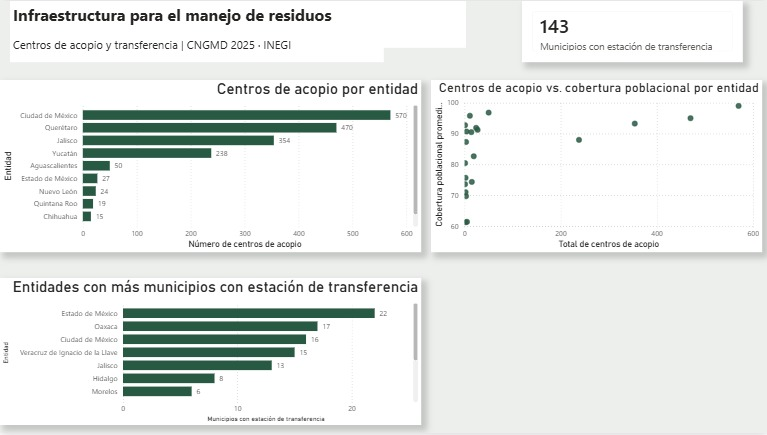

The page's visual inventory and layout, read from the dashboard file:
{"tool":"powerbi","page":{"name":"03 - Infraestructura","canvas":[1280,720],"ordinal":2},"visuals":[{"type":"textbox","box":[16.7,0,760,78.3],"z":0},{"type":"textbox","box":[16.7,55,623.3,46.7],"z":1000},{"type":"clusteredBarChart","title":"Centros de acopio por entidad","fields":{"Category":["Dim_Geografia.Entidad"],"Y":["servicio_cngmd2025.Total Centros de Acopio"]},"box":[0,131.7,701.7,286.7],"z":2000},{"type":"cardVisual","fields":{"Data":["Dim_CentroAcopio.Municipios con Estacion Transferencia"]},"box":[870,0,368.3,101.7],"z":3000},{"type":"clusteredBarChart","title":"Entidades con más municipios con estación de transferencia","fields":{"Category":["Dim_Geografia.Entidad"],"Y":["Dim_CentroAcopio.Municipios con Estacion Transferencia"]},"box":[0,461.7,701.7,245],"z":4000},{"type":"scatterChart","title":"Centros de acopio vs. cobertura poblacional por entidad","fields":{"X":["servicio_cngmd2025.Total Centros de Acopio"],"Y":["servicio_cngmd2025.Cobertura Promedio Poblacion"],"Category":["Dim_Geografia.Entidad"]},"box":[718.3,131.7,551.7,286.7],"z":4001}]}

Visuals, with their boxes in screenshot pixels (x1, y1, x2, y2), scaled from the page's 1280x720 canvas onto the 767x435 screenshot:
textbox: crop(10, 0, 465, 47)
textbox: crop(10, 33, 384, 61)
"Centros de acopio por entidad" clusteredBarChart: crop(0, 80, 420, 253)
cardVisual - Dim_CentroAcopio.Municipios con Estacion Transferencia: crop(521, 0, 742, 61)
"Entidades con más municipios con estación de transferencia" clusteredBarChart: crop(0, 279, 420, 427)
"Centros de acopio vs. cobertura poblacional por entidad" scatterChart: crop(430, 80, 761, 253)
